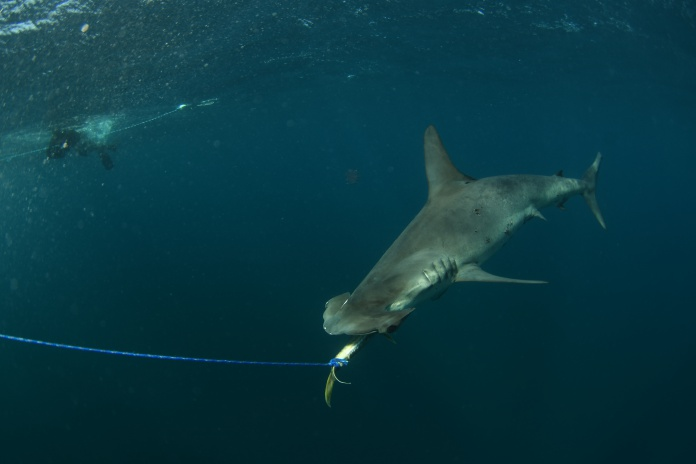Hammer: (262, 90, 641, 349)
